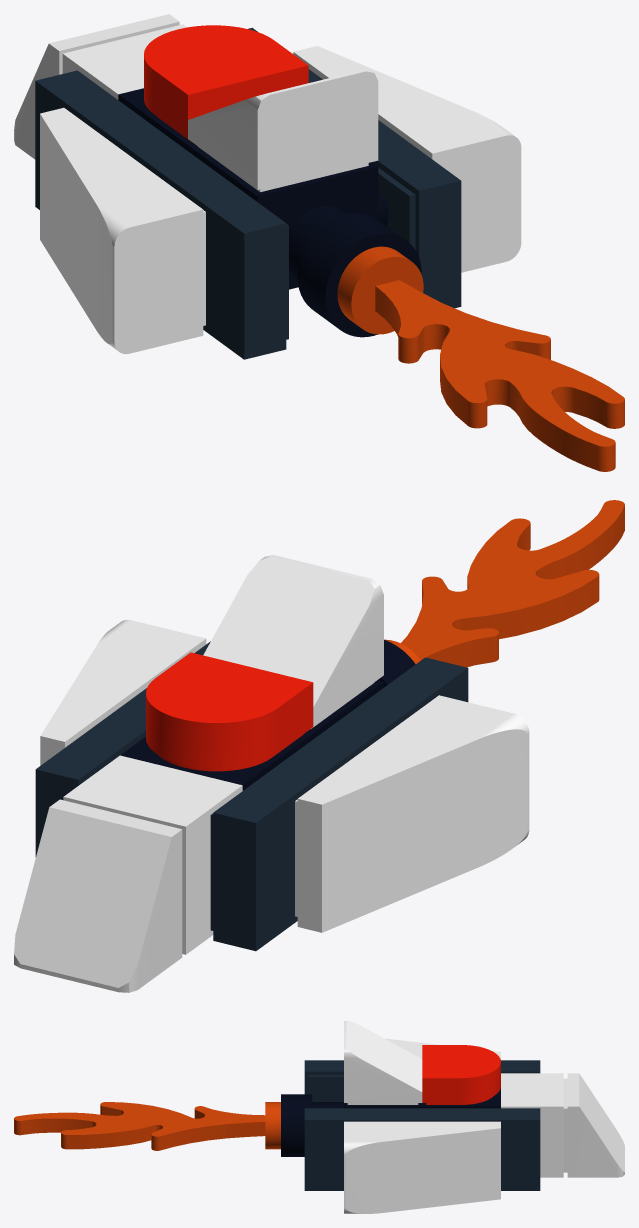
Rendered from LegoSpaceshipThrust.obj.
The picture shows the model from 3 angles, top to bottom: view 1: azimuth 30°, elevation 25°; view 2: azimuth 150°, elevation 25°; view 3: azimuth 270°, elevation 25°; orthographic projection. The views are drawn at different scales.
Size of the model in its own units: 67.5 by 35.6 by 156.
